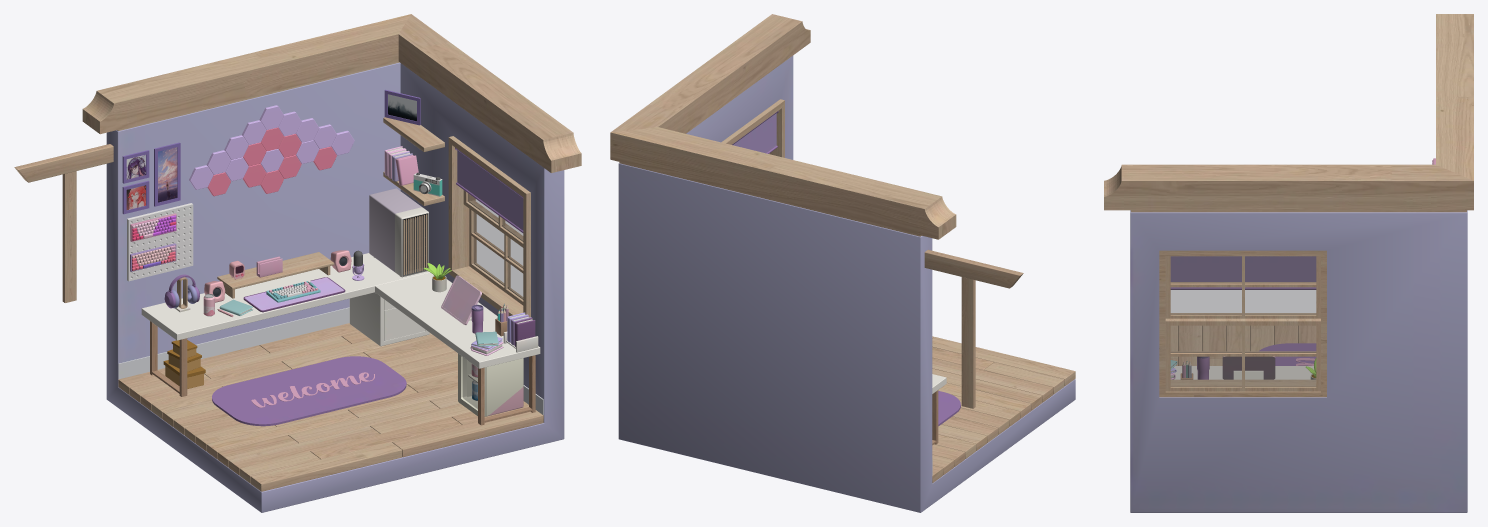
Rendered from isoRoom.glb.
3 views of the same model, side by side, from view 1: azimuth 30°, elevation 25°; view 2: azimuth 150°, elevation 25°; view 3: azimuth 270°, elevation 25° (orthographic). The views are drawn at different scales.
Parts seen in each view (by area): view 1: room_static_shadow, wood_static_shadow, Circle.155, table_glossy, boxes_interact, plant_shadow, Plane.349, window_glass_interact.002, window_frame_interact.002, cute_speaker, tablet_interact, drawer_interact (+2 smaller); view 2: room_static_shadow, wood_static_shadow; view 3: room_static_shadow, wood_static_shadow, window_glass_interact.002, window_glass_up, window_frame_interact.002, tablet_interact, table_glossy, boxes_interact.
Part boxes in pixels (x1,y1,x2,y2): room_static_shadow: (106, 62, 564, 512); wood_static_shadow: (14, 14, 581, 491); Circle.155: (189, 94, 428, 407); table_glossy: (141, 253, 540, 368); boxes_interact: (163, 146, 535, 388); plant_shadow: (126, 147, 451, 312); Plane.349: (150, 318, 535, 425); window_glass_interact.002: (474, 212, 522, 299); window_frame_interact.002: (469, 200, 523, 305); cute_speaker: (204, 250, 364, 302); tablet_interact: (441, 275, 481, 325); drawer_interact: (384, 308, 425, 340); room_static_shadow: (618, 55, 1075, 512); wood_static_shadow: (610, 14, 1075, 483); room_static_shadow: (1130, 158, 1467, 512); wood_static_shadow: (1104, 14, 1473, 397); window_glass_interact.002: (1171, 326, 1315, 386); window_glass_up: (1171, 256, 1315, 314); window_frame_interact.002: (1165, 318, 1320, 391); tablet_interact: (1222, 356, 1275, 379); table_glossy: (1174, 366, 1314, 379); boxes_interact: (1170, 356, 1209, 379).
Bounding box in the file's own units: 4.9 × 3.58 × 3.58.
12 materials, 10 textured.
